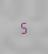five: (19, 19, 26, 34)
